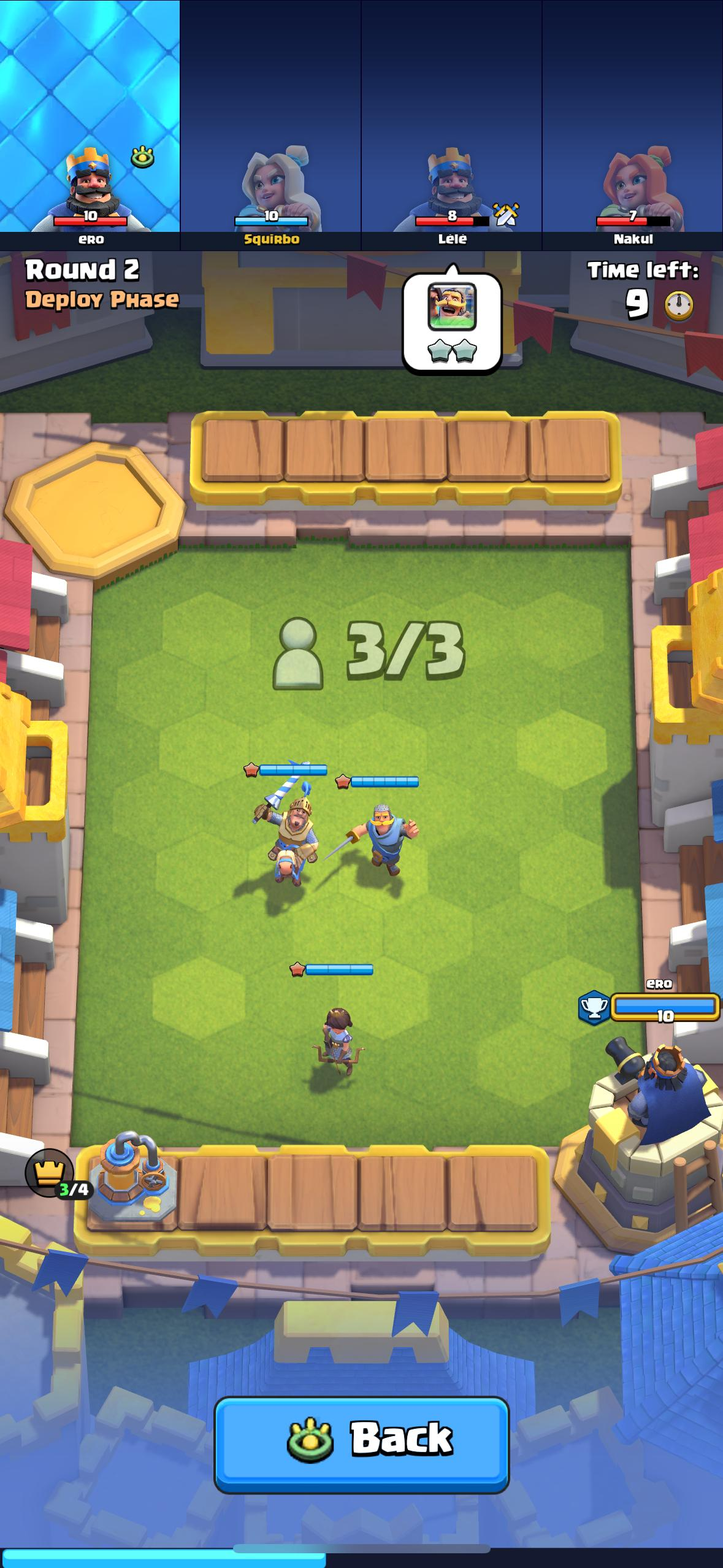collector: (87, 1130, 178, 1222)
knight: (348, 799, 418, 877)
prince: (253, 779, 320, 886)
princess: (311, 1003, 362, 1076)
